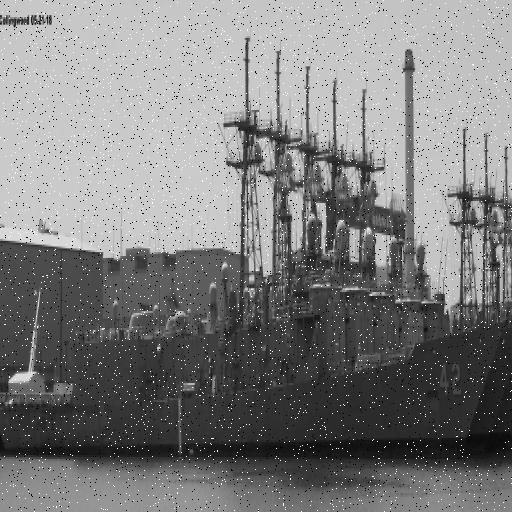Fragata: (1, 35, 511, 454)
